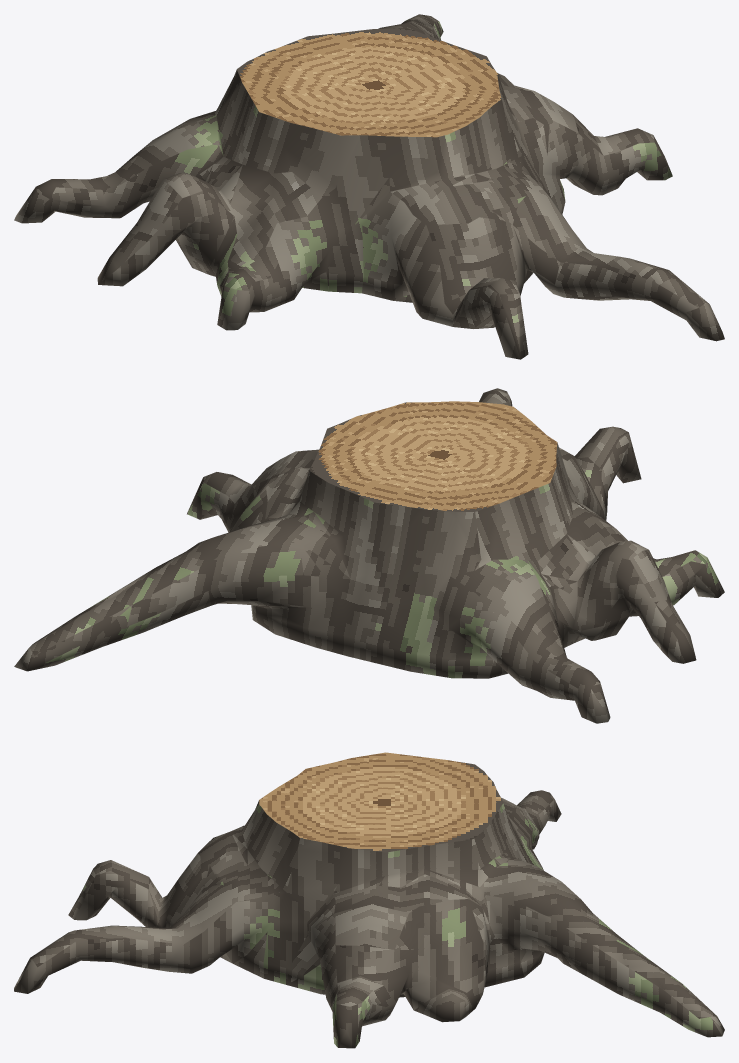
The model's file is environment_elm1_stump_v57.fbx.
3 views of the same model, one above another, from view 1: azimuth 30°, elevation 25°; view 2: azimuth 150°, elevation 25°; view 3: azimuth 270°, elevation 25° (orthographic). The views are drawn at different scales.
Parts seen in each view (by area): view 1: environment_elm1_stump_v57; view 2: environment_elm1_stump_v57; view 3: environment_elm1_stump_v57.
Boxes of the visible parts, <box> form: environment_elm1_stump_v57: <box>14,14,724,359</box>; environment_elm1_stump_v57: <box>14,388,724,723</box>; environment_elm1_stump_v57: <box>14,752,724,1048</box>.
Size of the model in its own units: 470 by 115 by 591.
2 materials, 2 textured.
